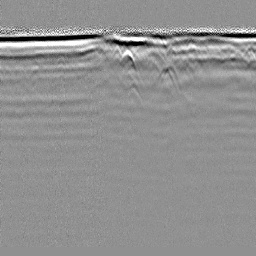cavity: (119, 47, 135, 68)
